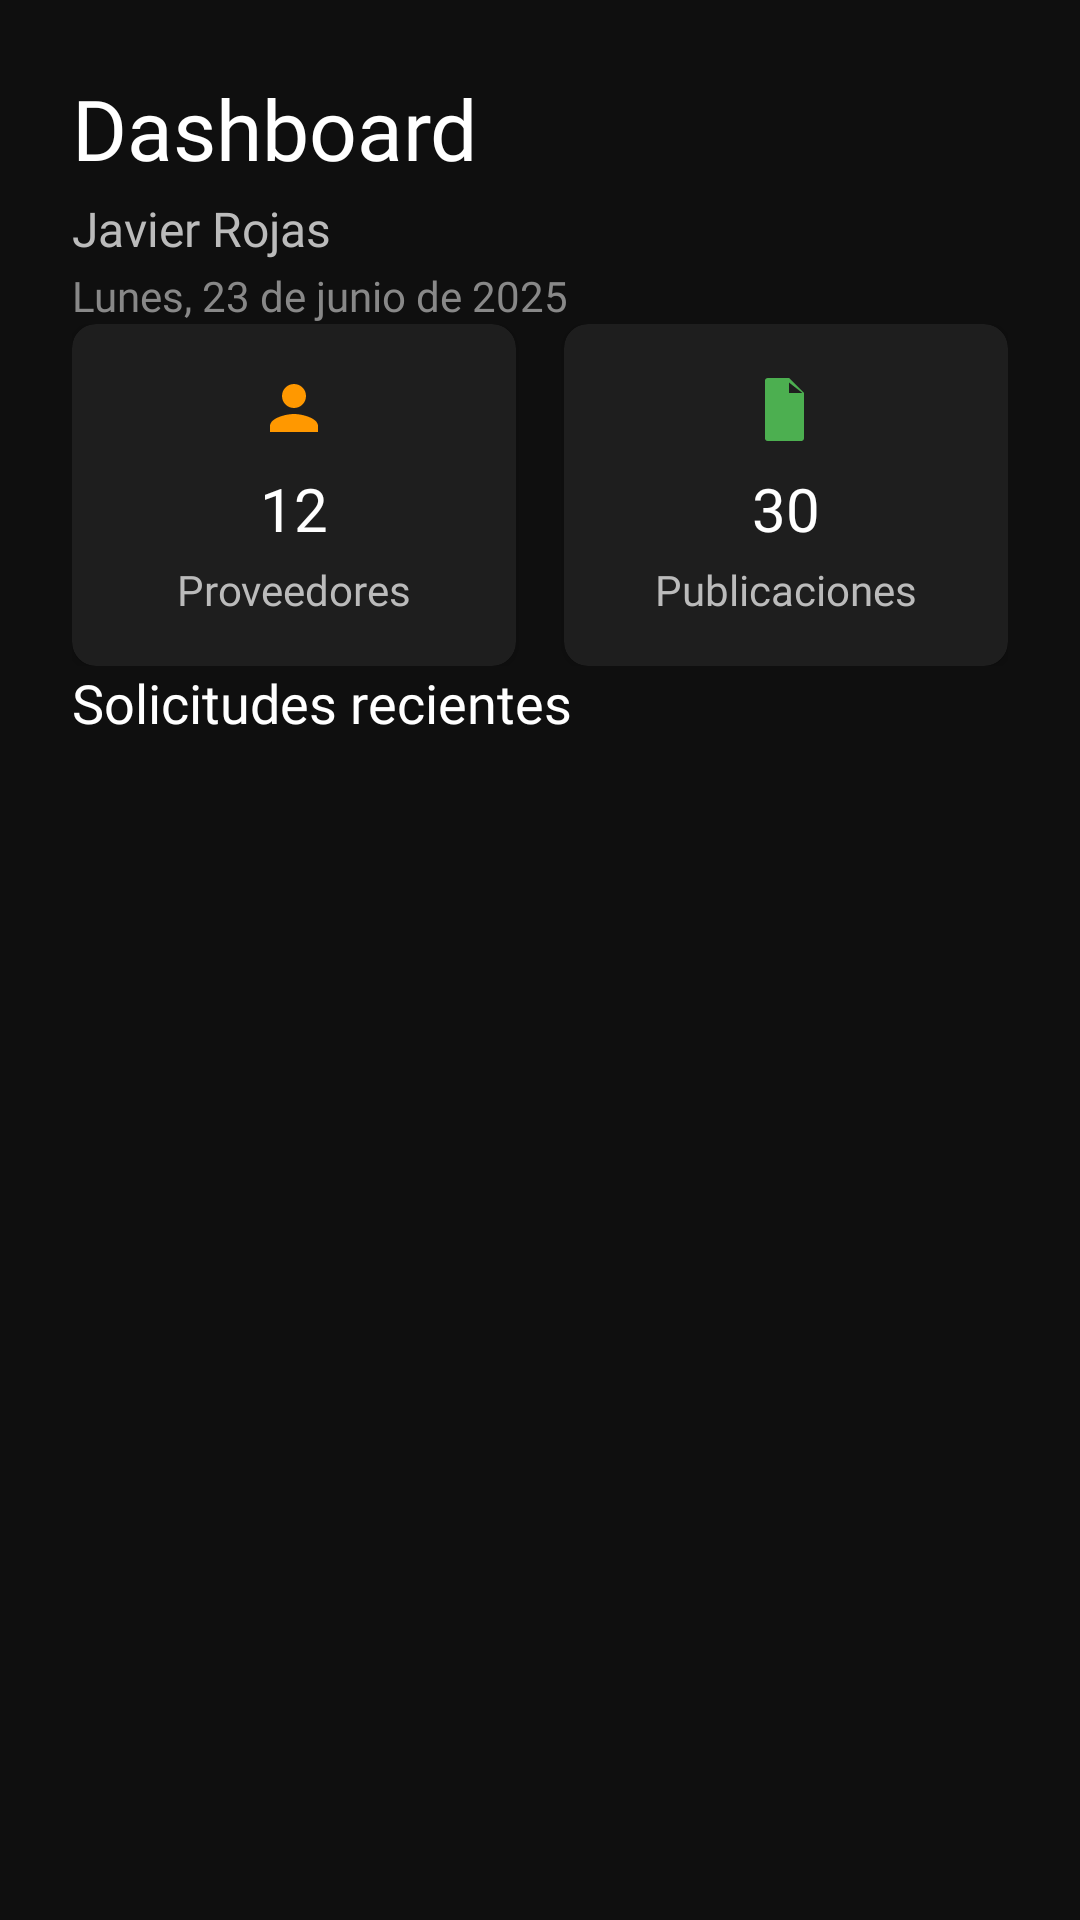

Named icons in this screenshot (1080 × 1920) and their centers, [x,y]:
provider: [294,408]
